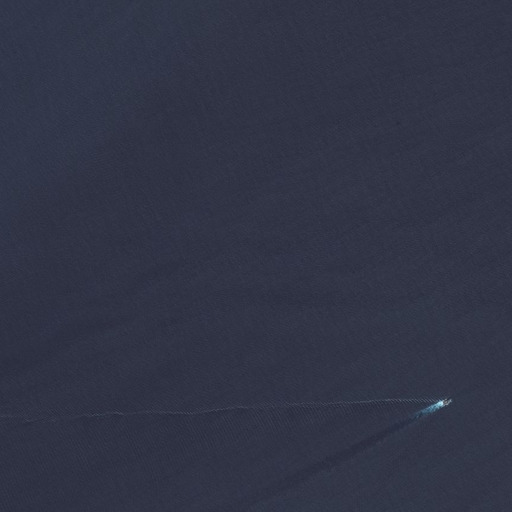ship: (440, 395, 455, 409)
